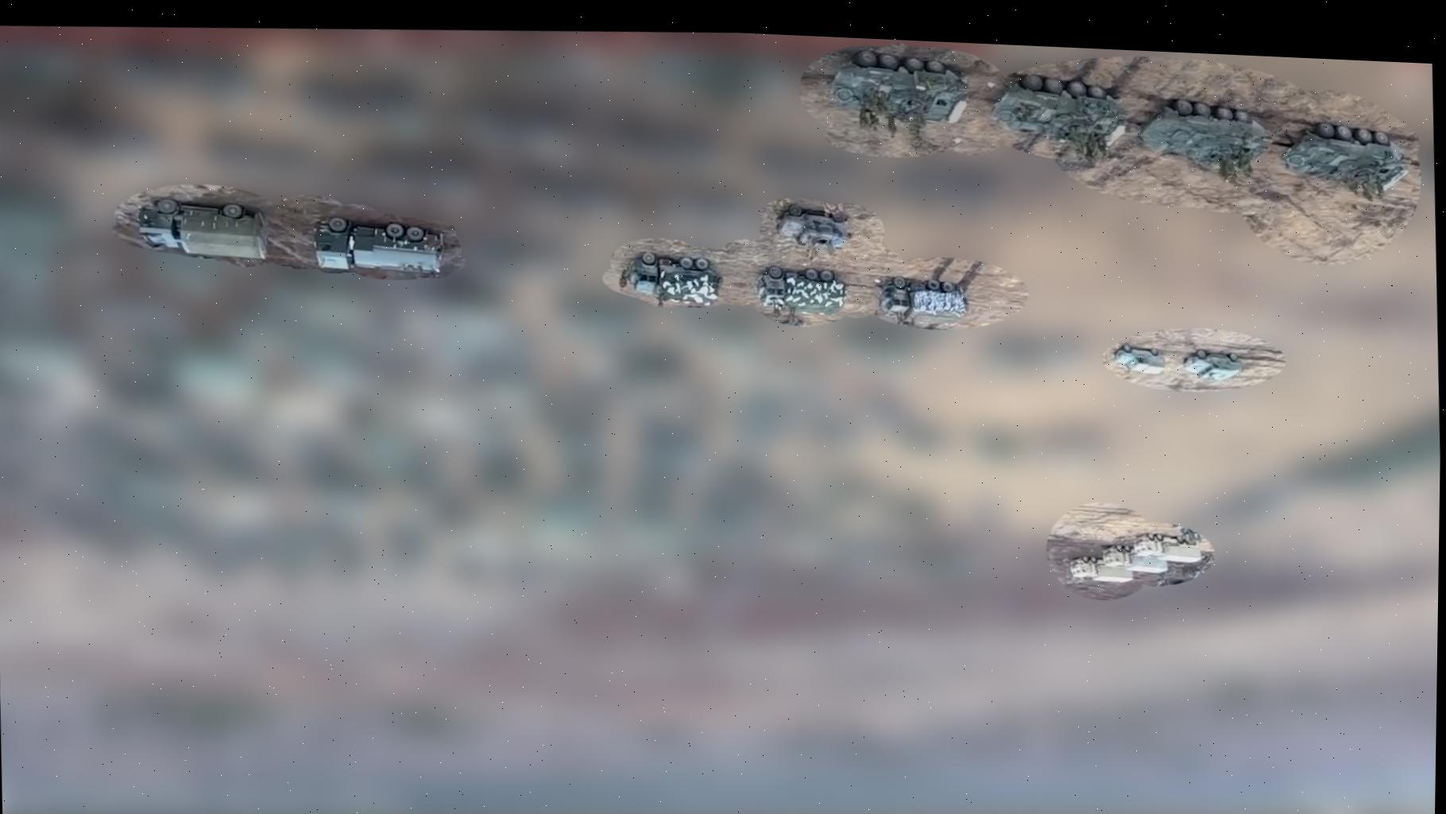armored_car: (985, 67, 1130, 156), (825, 43, 971, 130), (1136, 90, 1275, 174), (1281, 118, 1414, 201), (772, 199, 852, 253), (1181, 346, 1242, 384), (1111, 339, 1168, 377)
truck: (132, 192, 271, 267), (310, 211, 447, 278), (617, 246, 725, 308), (753, 261, 849, 323), (876, 270, 968, 321), (1133, 528, 1209, 565)
